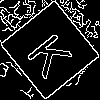K: (25, 25, 82, 80)
